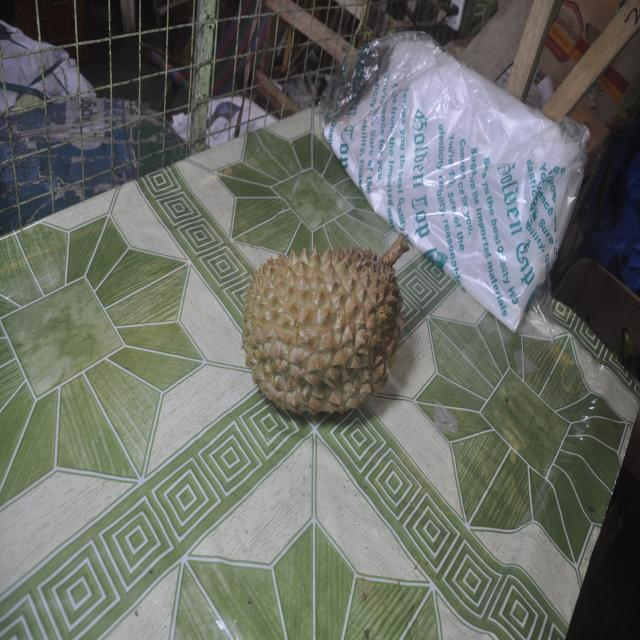mature: (242, 233, 409, 414)
